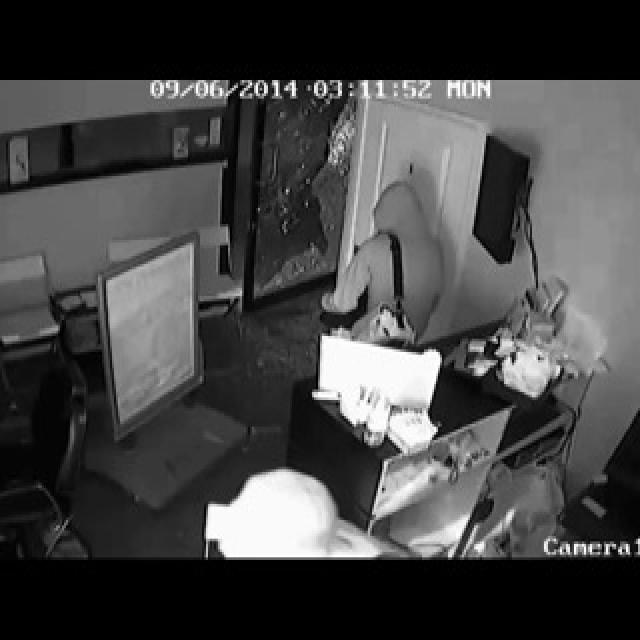thief: (324, 177, 452, 341)
